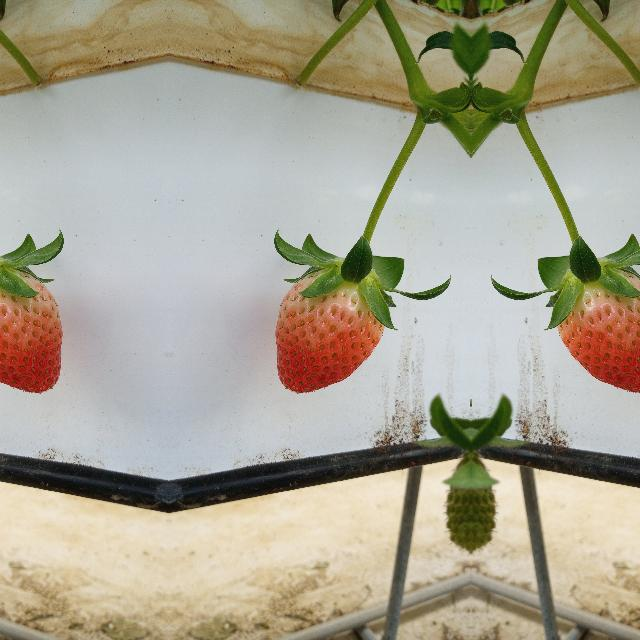Health_100: (273, 268, 385, 394), (556, 268, 640, 394), (0, 268, 63, 394)
